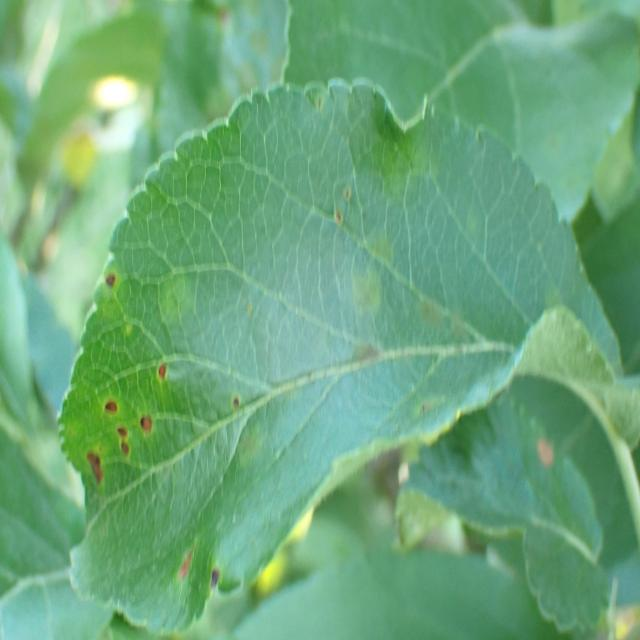frog-eye-leaf-spot: (57, 75, 616, 638)
